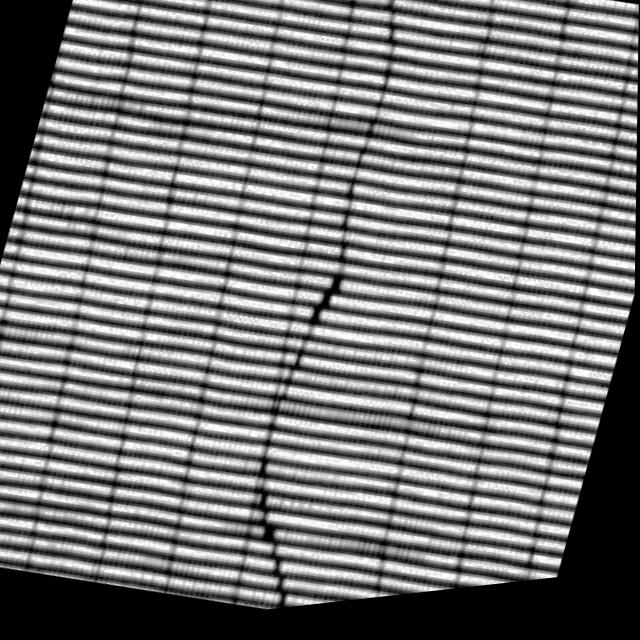Stitch: (207, 250, 418, 621)
